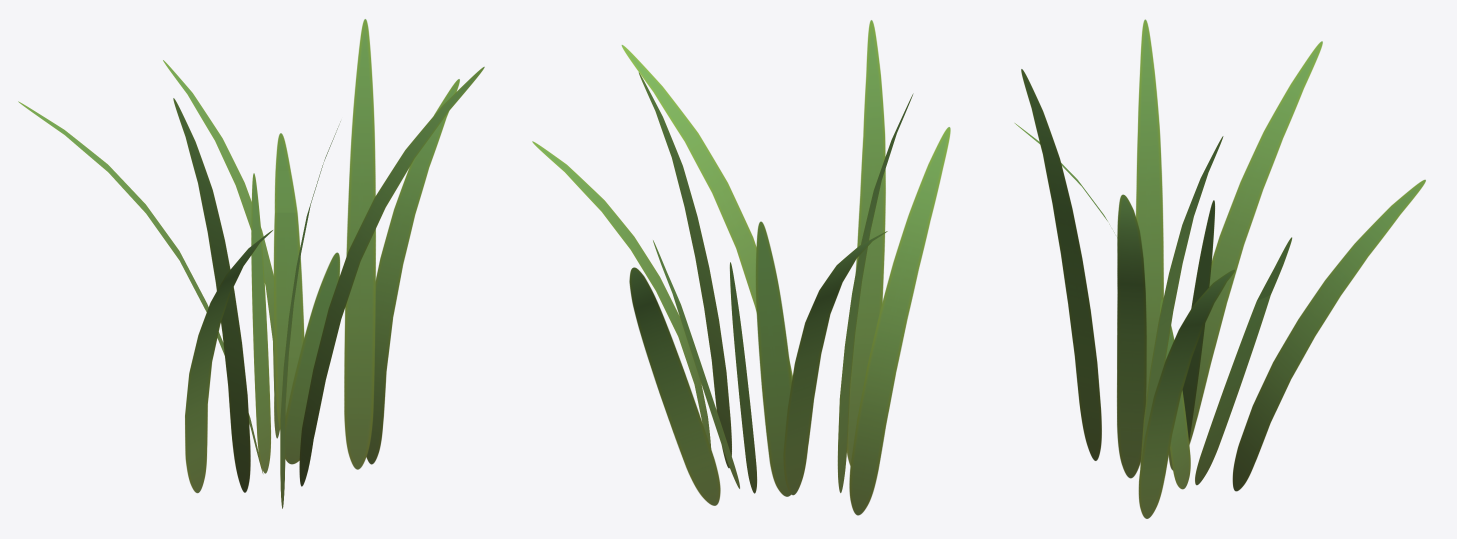
The model's file is stylized_grass_bush.glb.
3 renders of one model, left to right at view 1: azimuth 30°, elevation 25°; view 2: azimuth 150°, elevation 25°; view 3: azimuth 270°, elevation 25°, orthographic. The views are drawn at different scales.
Visible parts, largest first — view 1: Grass:Grass_low9_Grass:Grass_MAT_0.001, Grass:Grass_low7_Grass:Grass_MAT_0.001, Grass:Grass_low8_Grass:Grass_MAT_0.001, Grass:Grass_Master3_Grass:Grass_MAT_0.001, Grass:Grass_low11_Grass:Grass_MAT_0.001, Grass:Grass_low10_Grass:Grass_MAT_0.001, Grass:Grass_Master1_Grass:Grass_MAT_0.001, Grass:Grass_Master2_Grass:Grass_MAT_0.001, Grass:Grass_low13_Grass:Grass_MAT_0.001, Grass:Grass_low12_Grass:Grass_MAT_0.001, Grass:Grass_low6_Grass:Grass_MAT_0.001; view 2: Grass:Grass_low10_Grass:Grass_MAT_0.001, Grass:Grass_low6_Grass:Grass_MAT_0.001, Grass:Grass_low13_Grass:Grass_MAT_0.001, Grass:Grass_Master1_Grass:Grass_MAT_0.001, Grass:Grass_low12_Grass:Grass_MAT_0.001, Grass:Grass_low8_Grass:Grass_MAT_0.001, Grass:Grass_low9_Grass:Grass_MAT_0.001, Grass:Grass_low7_Grass:Grass_MAT_0.001, Grass:Grass_low11_Grass:Grass_MAT_0.001, Grass:Grass_Master2_Grass:Grass_MAT_0.001, Grass:Grass_Master3_Grass:Grass_MAT_0.001; view 3: Grass:Grass_low13_Grass:Grass_MAT_0.001, Grass:Grass_low8_Grass:Grass_MAT_0.001, Grass:Grass_low6_Grass:Grass_MAT_0.001, Grass:Grass_low12_Grass:Grass_MAT_0.001, Grass:Grass_low11_Grass:Grass_MAT_0.001, Grass:Grass_low7_Grass:Grass_MAT_0.001, Grass:Grass_Master3_Grass:Grass_MAT_0.001, Grass:Grass_low9_Grass:Grass_MAT_0.001, Grass:Grass_Master1_Grass:Grass_MAT_0.001, Grass:Grass_Master2_Grass:Grass_MAT_0.001.
Part boxes in pixels (left/top/right/bottom): Grass:Grass_low9_Grass:Grass_MAT_0.001: left=344, top=19, right=375, bottom=469; Grass:Grass_low7_Grass:Grass_MAT_0.001: left=366, top=79, right=459, bottom=464; Grass:Grass_low8_Grass:Grass_MAT_0.001: left=299, top=66, right=484, bottom=486; Grass:Grass_Master3_Grass:Grass_MAT_0.001: left=273, top=133, right=304, bottom=429; Grass:Grass_low11_Grass:Grass_MAT_0.001: left=173, top=98, right=250, bottom=492; Grass:Grass_low10_Grass:Grass_MAT_0.001: left=185, top=230, right=272, bottom=493; Grass:Grass_Master1_Grass:Grass_MAT_0.001: left=251, top=173, right=270, bottom=473; Grass:Grass_Master2_Grass:Grass_MAT_0.001: left=285, top=252, right=339, bottom=464; Grass:Grass_low13_Grass:Grass_MAT_0.001: left=163, top=60, right=279, bottom=438; Grass:Grass_low12_Grass:Grass_MAT_0.001: left=18, top=101, right=263, bottom=473; Grass:Grass_low6_Grass:Grass_MAT_0.001: left=280, top=121, right=340, bottom=508; Grass:Grass_low10_Grass:Grass_MAT_0.001: left=849, top=127, right=950, bottom=515; Grass:Grass_low6_Grass:Grass_MAT_0.001: left=847, top=20, right=885, bottom=465; Grass:Grass_low13_Grass:Grass_MAT_0.001: left=629, top=267, right=720, bottom=505; Grass:Grass_Master1_Grass:Grass_MAT_0.001: left=755, top=221, right=791, bottom=496; Grass:Grass_low12_Grass:Grass_MAT_0.001: left=783, top=231, right=887, bottom=495; Grass:Grass_low8_Grass:Grass_MAT_0.001: left=621, top=45, right=792, bottom=380; Grass:Grass_low9_Grass:Grass_MAT_0.001: left=638, top=72, right=731, bottom=468; Grass:Grass_low7_Grass:Grass_MAT_0.001: left=532, top=141, right=711, bottom=448; Grass:Grass_low11_Grass:Grass_MAT_0.001: left=837, top=93, right=913, bottom=492; Grass:Grass_Master2_Grass:Grass_MAT_0.001: left=729, top=262, right=757, bottom=493; Grass:Grass_Master3_Grass:Grass_MAT_0.001: left=653, top=240, right=739, bottom=488; Grass:Grass_low13_Grass:Grass_MAT_0.001: left=1232, top=179, right=1425, bottom=491; Grass:Grass_low8_Grass:Grass_MAT_0.001: left=1117, top=194, right=1146, bottom=478; Grass:Grass_low6_Grass:Grass_MAT_0.001: left=1021, top=69, right=1101, bottom=460; Grass:Grass_low12_Grass:Grass_MAT_0.001: left=1169, top=41, right=1322, bottom=470; Grass:Grass_low11_Grass:Grass_MAT_0.001: left=1136, top=19, right=1163, bottom=400; Grass:Grass_low7_Grass:Grass_MAT_0.001: left=1138, top=269, right=1235, bottom=518; Grass:Grass_Master3_Grass:Grass_MAT_0.001: left=1195, top=237, right=1292, bottom=485; Grass:Grass_low9_Grass:Grass_MAT_0.001: left=1140, top=136, right=1223, bottom=468; Grass:Grass_Master1_Grass:Grass_MAT_0.001: left=1182, top=200, right=1214, bottom=441; Grass:Grass_Master2_Grass:Grass_MAT_0.001: left=1160, top=299, right=1190, bottom=489.
Bounding box in the file's own units: 13.86 × 13.52 × 12.92.
Materials: 1 (1 with a texture image).
